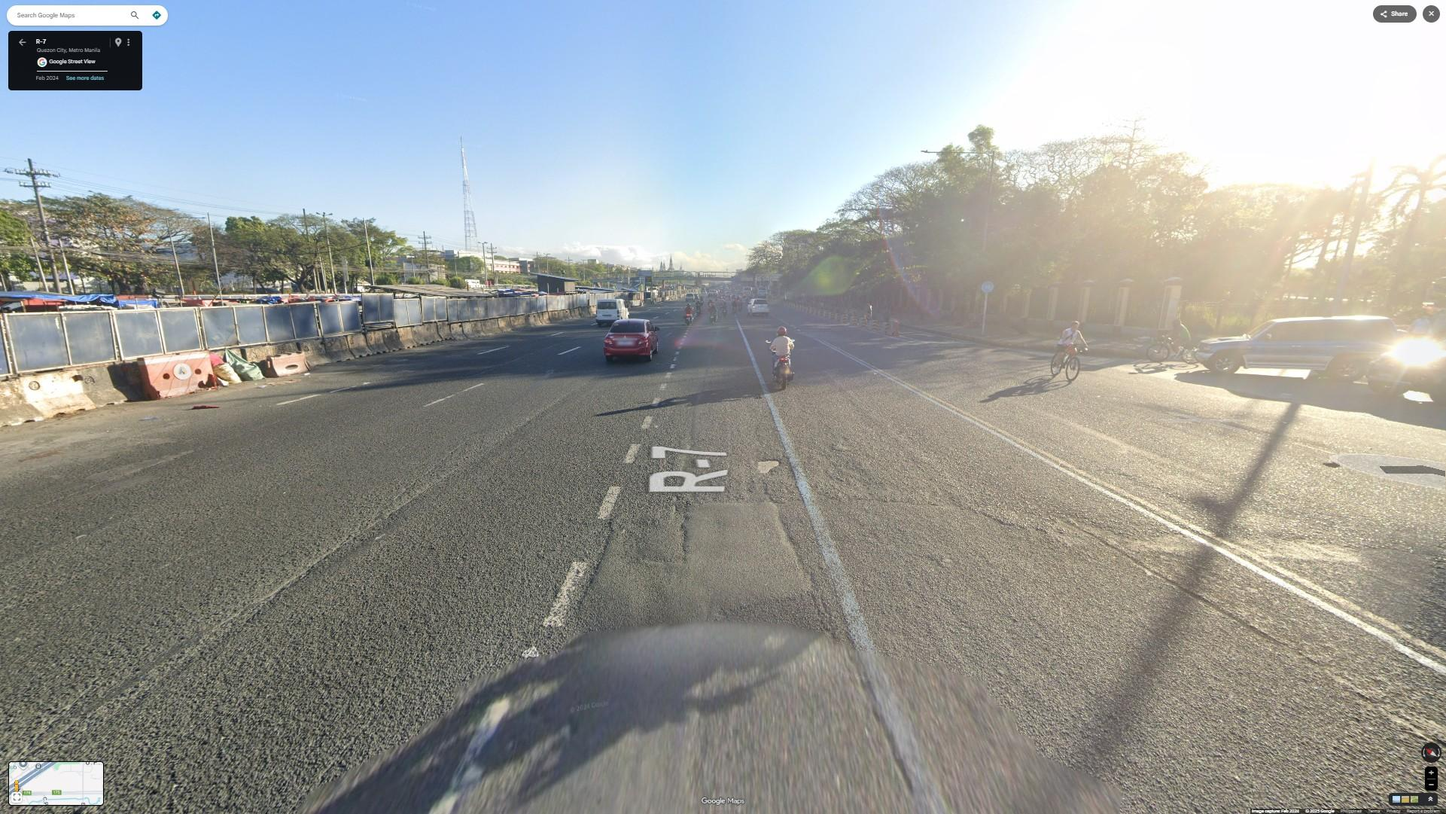cyclist: (1146, 319, 1203, 365), (1050, 320, 1089, 382)
pedestrian: (862, 300, 872, 328)
